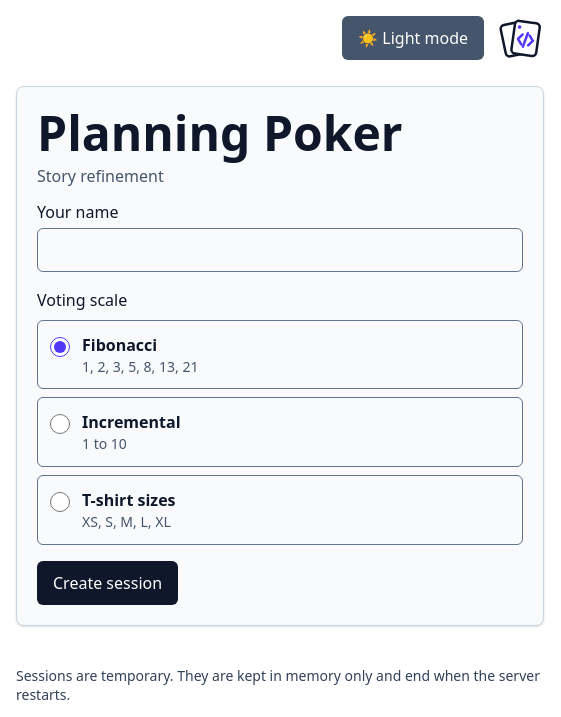
Test: CreateGamePage › disables the button while the request is in flight
Type "Sven" into the field labelled "Your name".
click(280, 250); type("Sven")  # box [37,228,523,272]
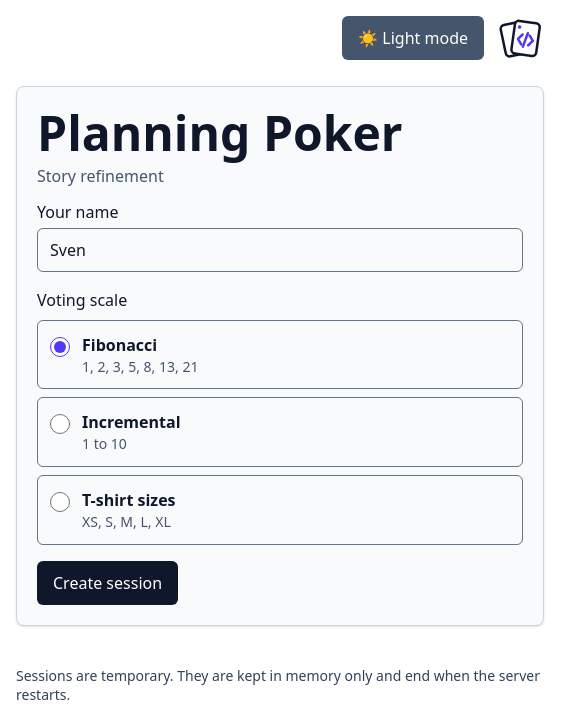
Click the button "Create session".
click(108, 583)  # box [37,561,178,605]
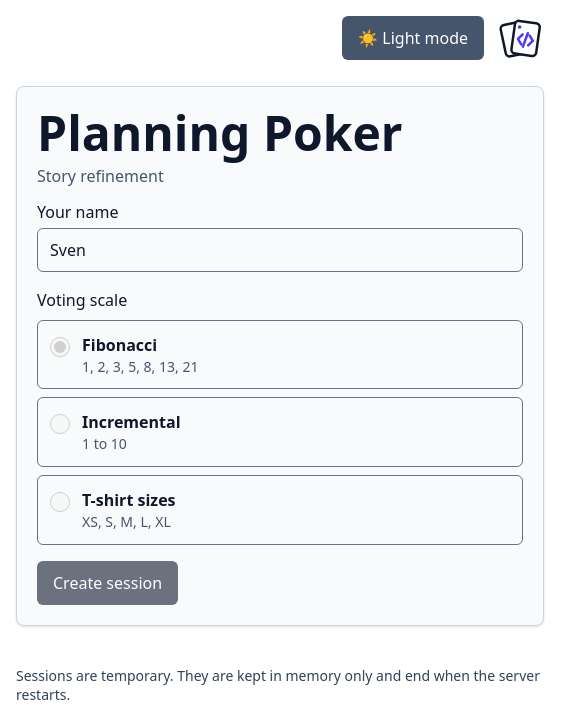
Check: the button "Create session" is disabled, box [37,561,178,605]
